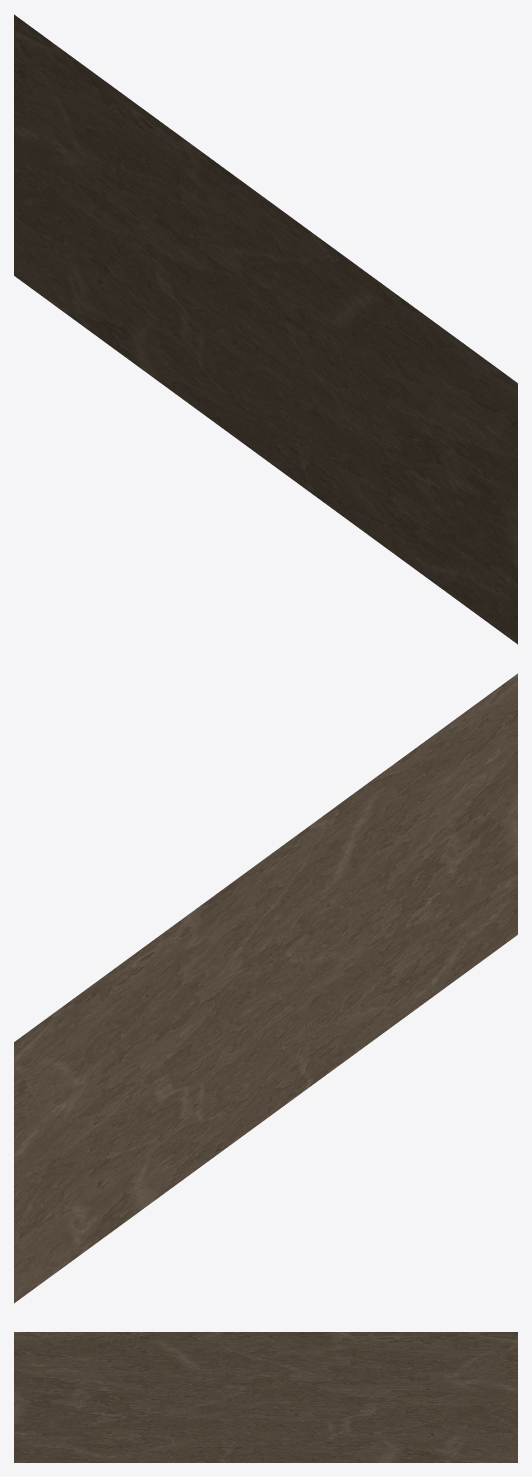
File: pared.fbx
3 renders of one model, top to bottom at view 1: azimuth 30°, elevation 25°; view 2: azimuth 150°, elevation 25°; view 3: azimuth 270°, elevation 25°, orthographic. The views are drawn at different scales.
Parts seen in each view (by area): view 1: pared8; view 2: pared8; view 3: pared8.
Part boxes in pixels (x1=…): pared8: x1=14, y1=14, x2=517, y2=644; pared8: x1=14, y1=673, x2=517, y2=1303; pared8: x1=14, y1=1332, x2=517, y2=1462.
Size of the model in its own units: 0 by 171 by 598.
